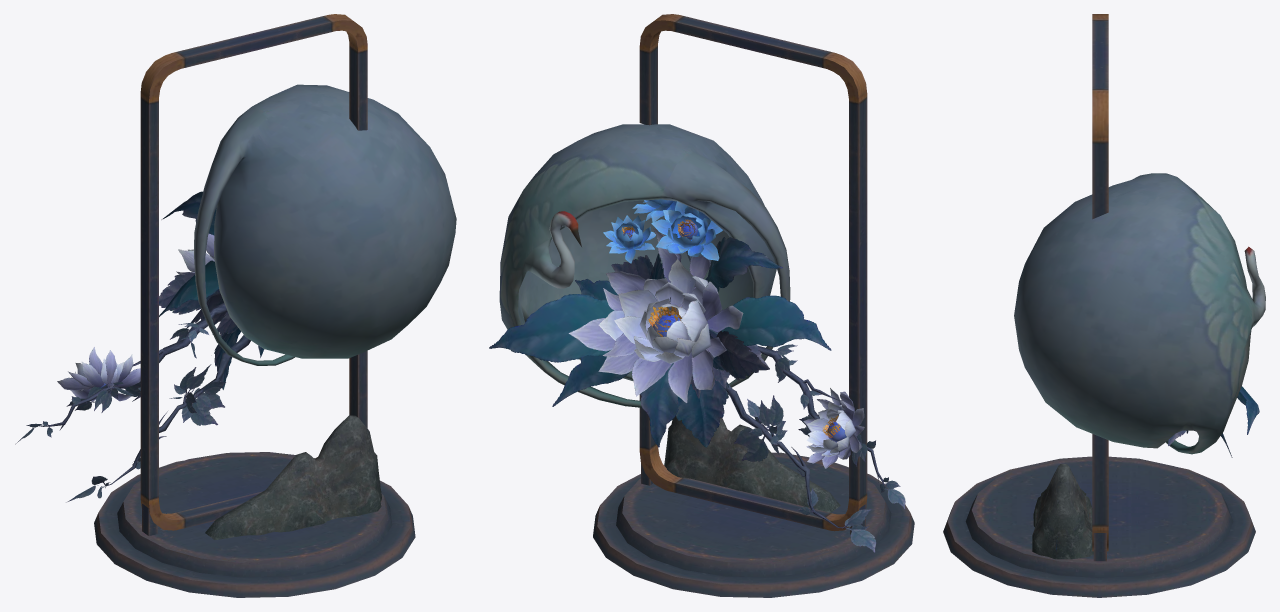
The model's file is furniture-20811.glb.
The picture shows the model from 3 angles, left to right: view 1: azimuth 30°, elevation 25°; view 2: azimuth 150°, elevation 25°; view 3: azimuth 270°, elevation 25°; orthographic projection. The views are drawn at different scales.
Bounding box in the file's own units: 1.32 × 1.54 × 0.9447.
Materials: 1 (1 with a texture image).
